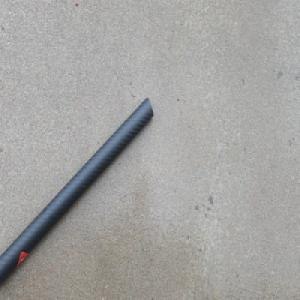LuggagePart: (0, 95, 154, 287)
